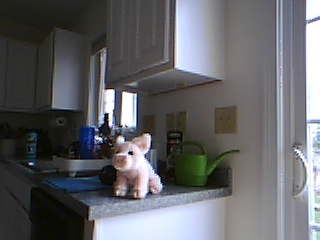piggy: (110, 132, 164, 200)
